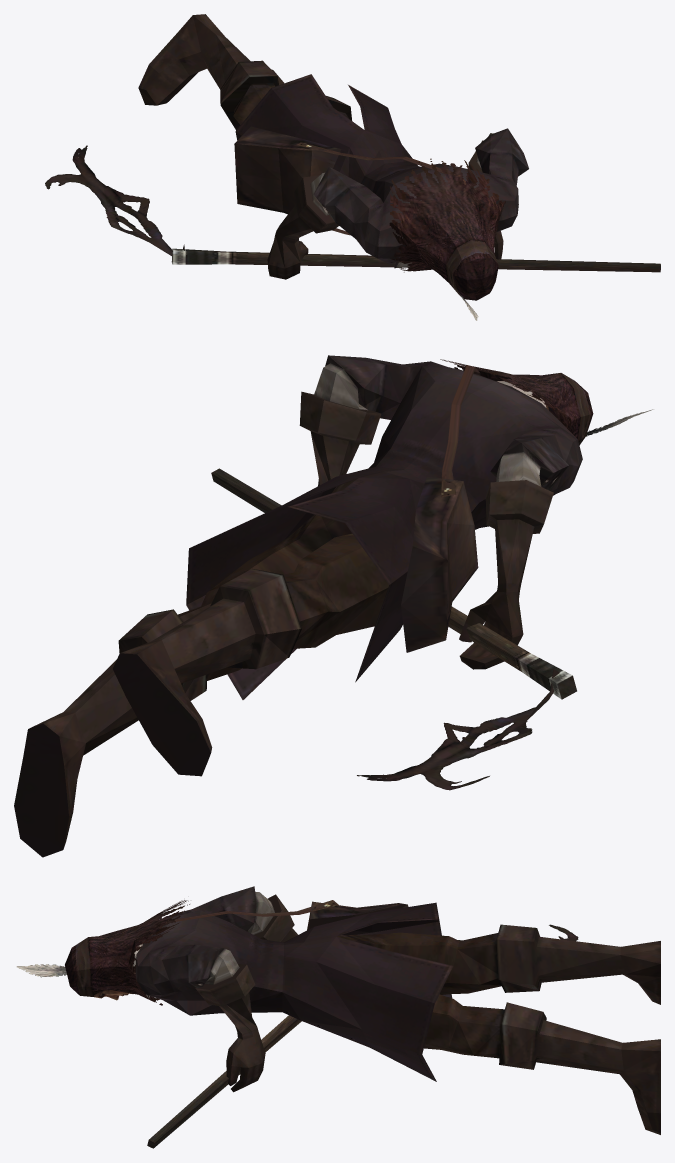
The model's file is yatelandisi_diwake.obj.
The picture shows the model from 3 angles, top to bottom: view 1: azimuth 30°, elevation 25°; view 2: azimuth 150°, elevation 25°; view 3: azimuth 270°, elevation 25°; orthographic projection. The views are drawn at different scales.
Parts seen in each view (by area): view 1: Yatelandisi_diwake, ????01; view 2: Yatelandisi_diwake, ????01; view 3: Yatelandisi_diwake, ????01.
Boxes of the visible parts, x1=… form: Yatelandisi_diwake: x1=138, y1=14, x2=528, y2=320; ????01: x1=45, y1=145, x2=660, y2=272; Yatelandisi_diwake: x1=14, y1=355, x2=653, y2=857; ????01: x1=211, y1=468, x2=576, y2=790; Yatelandisi_diwake: x1=16, y1=886, x2=660, y2=1134; ????01: x1=147, y1=924, x2=578, y2=1148.
Bounding box in the file's own units: 77.51 × 36.39 × 108.
Materials: 1 (1 with a texture image).
